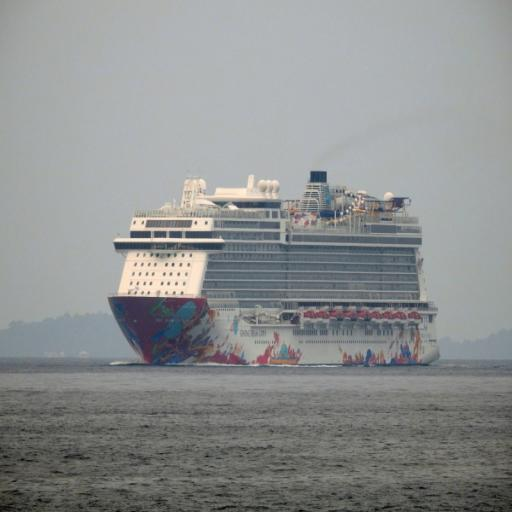cruises: (106, 166, 444, 374)
